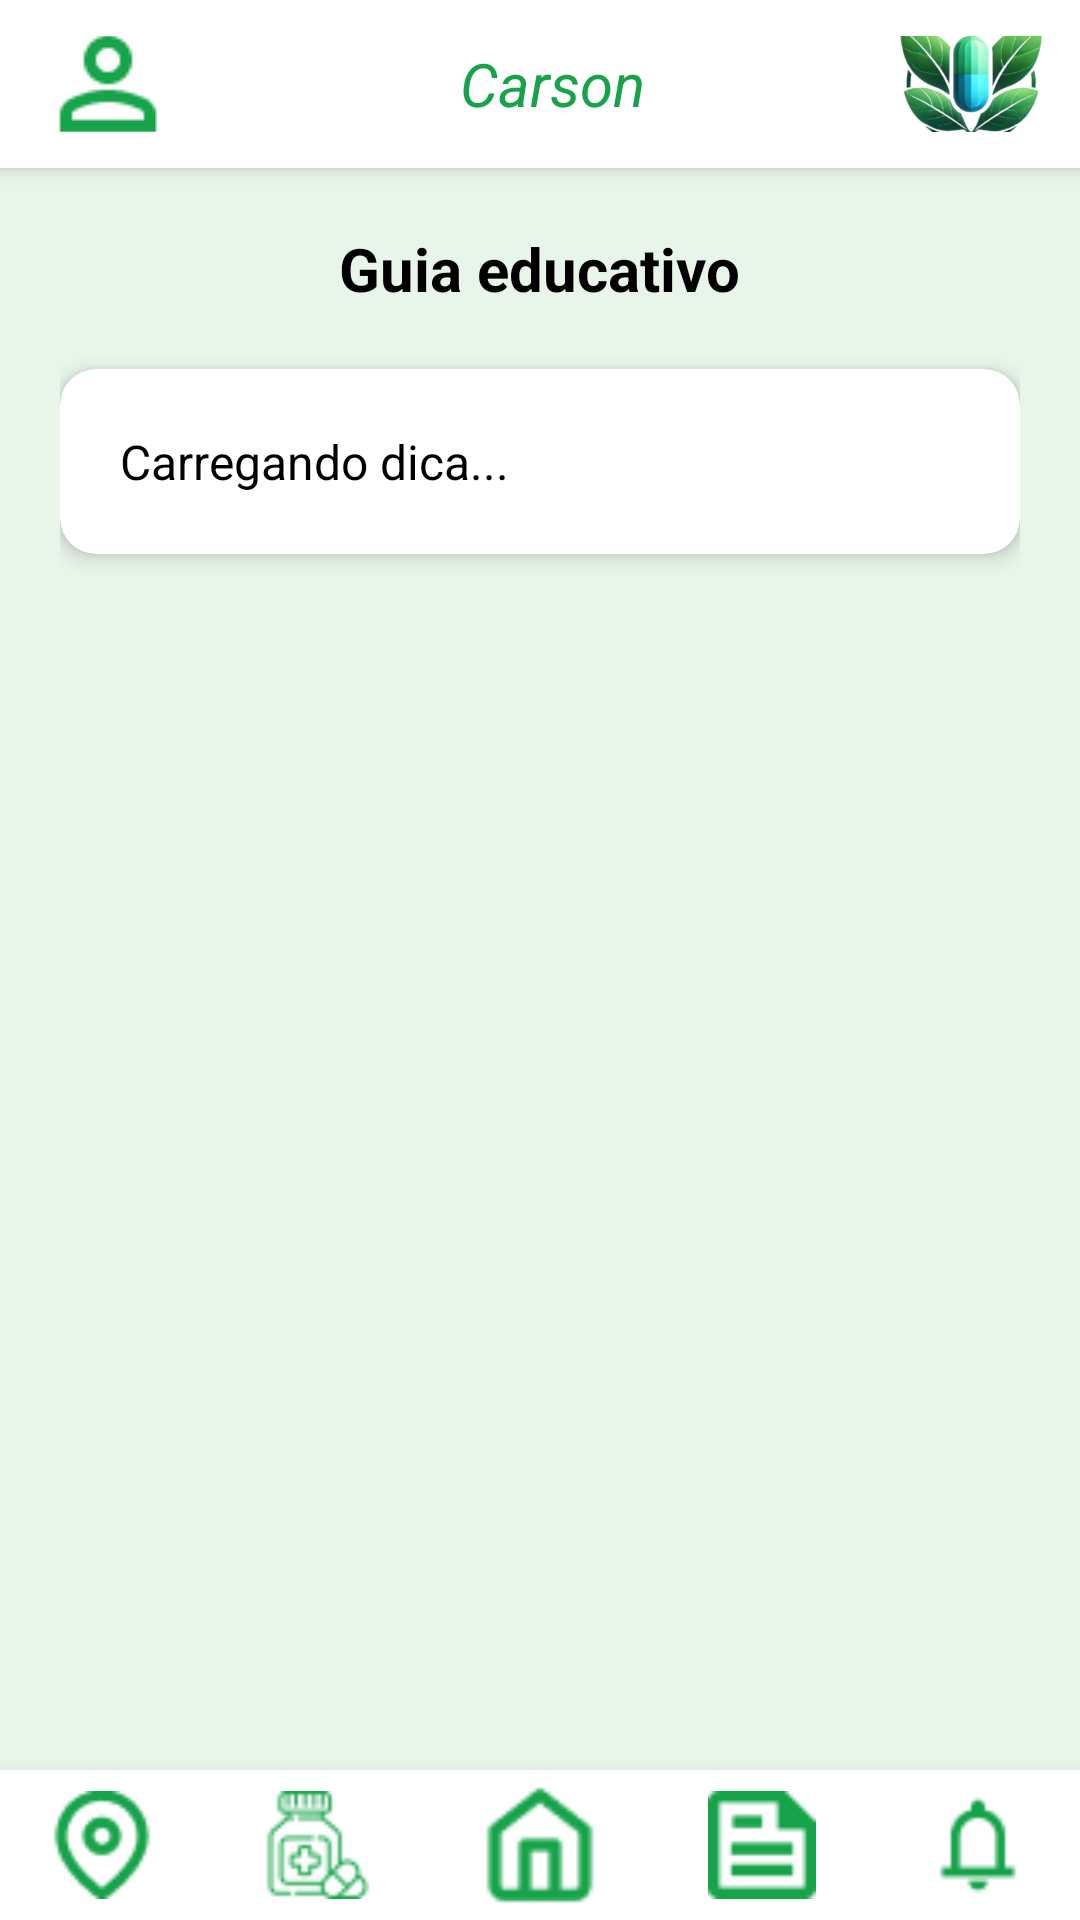

Icons on this 1080px x 1920px Android screen, each with its box as [x1,y1,x2,y2]:
Início: [486,1787,594,1903]
Mapa: [54,1791,150,1899]
Menu de perfil: [59,36,157,132]
Meus Medicamentos: [266,1791,370,1899]
Notícias: [708,1791,816,1899]
